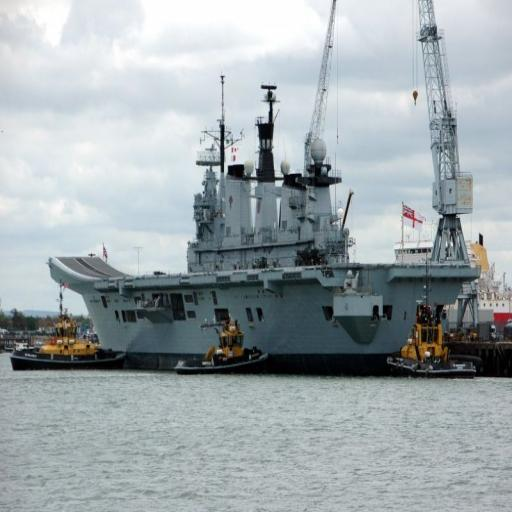Portanaves: (45, 61, 489, 370)
